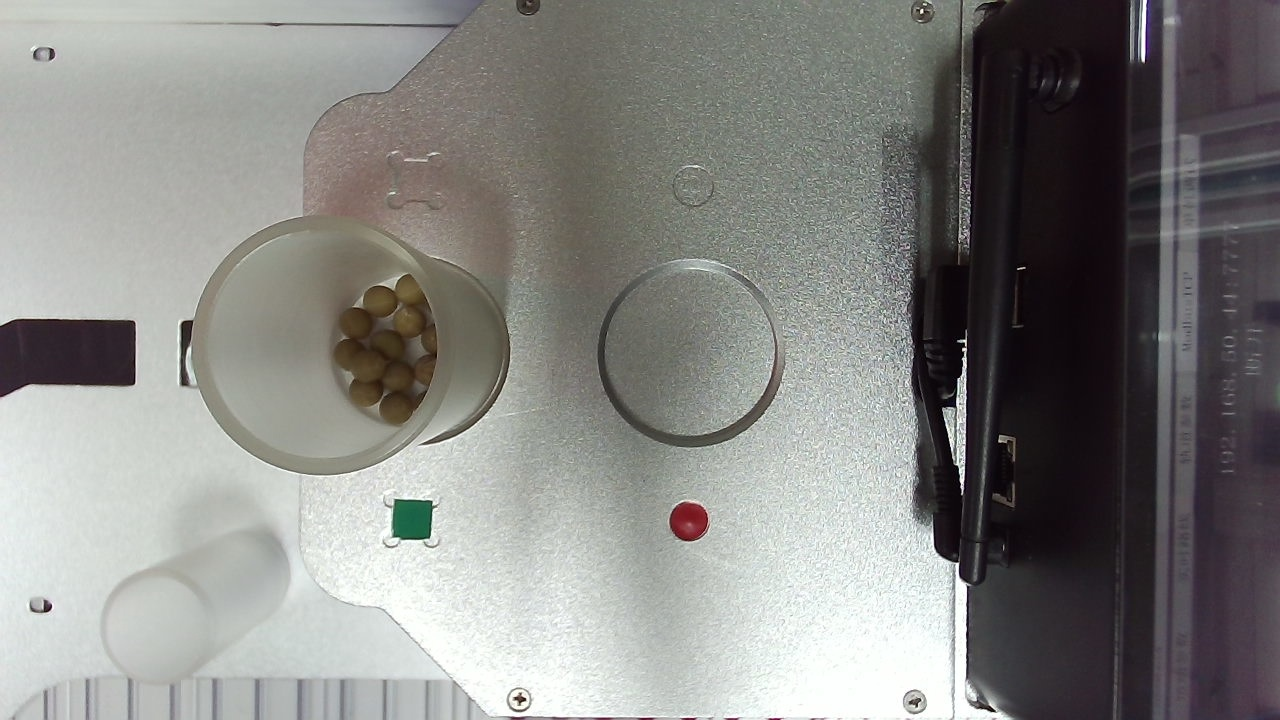XLabel: (463, 65, 531, 134)
YLabel: (894, 70, 964, 145)
none: (327, 202, 662, 532)
whiteempty: (803, 163, 1190, 534)
